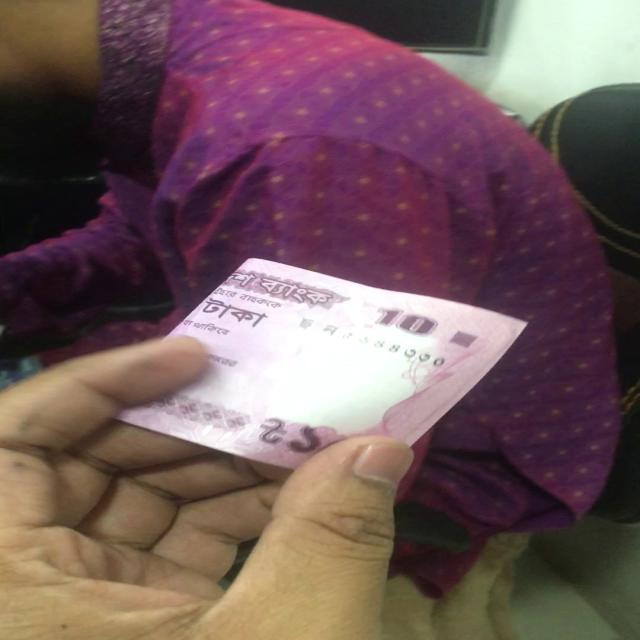Taka: (118, 254, 529, 474)
